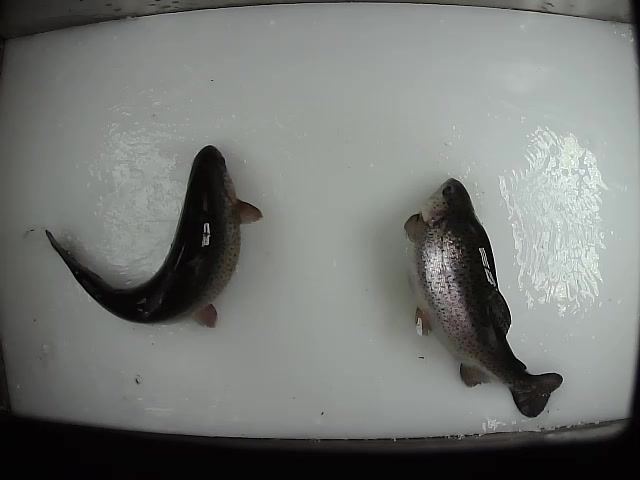fish: (43, 145, 266, 330), (401, 176, 564, 419)
